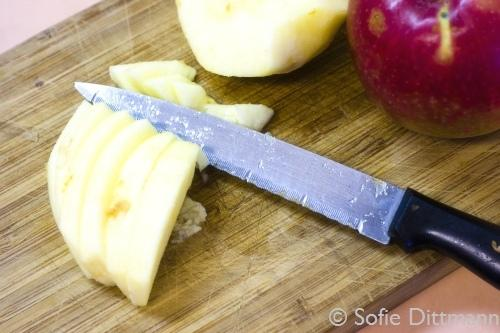apple: (346, 1, 499, 139), (103, 132, 184, 304), (128, 140, 211, 307), (175, 0, 348, 77), (80, 119, 158, 288), (58, 110, 136, 278), (45, 99, 94, 279), (55, 101, 113, 227), (122, 61, 172, 98), (143, 74, 196, 104), (234, 104, 274, 132), (174, 80, 207, 112), (205, 105, 238, 124)
